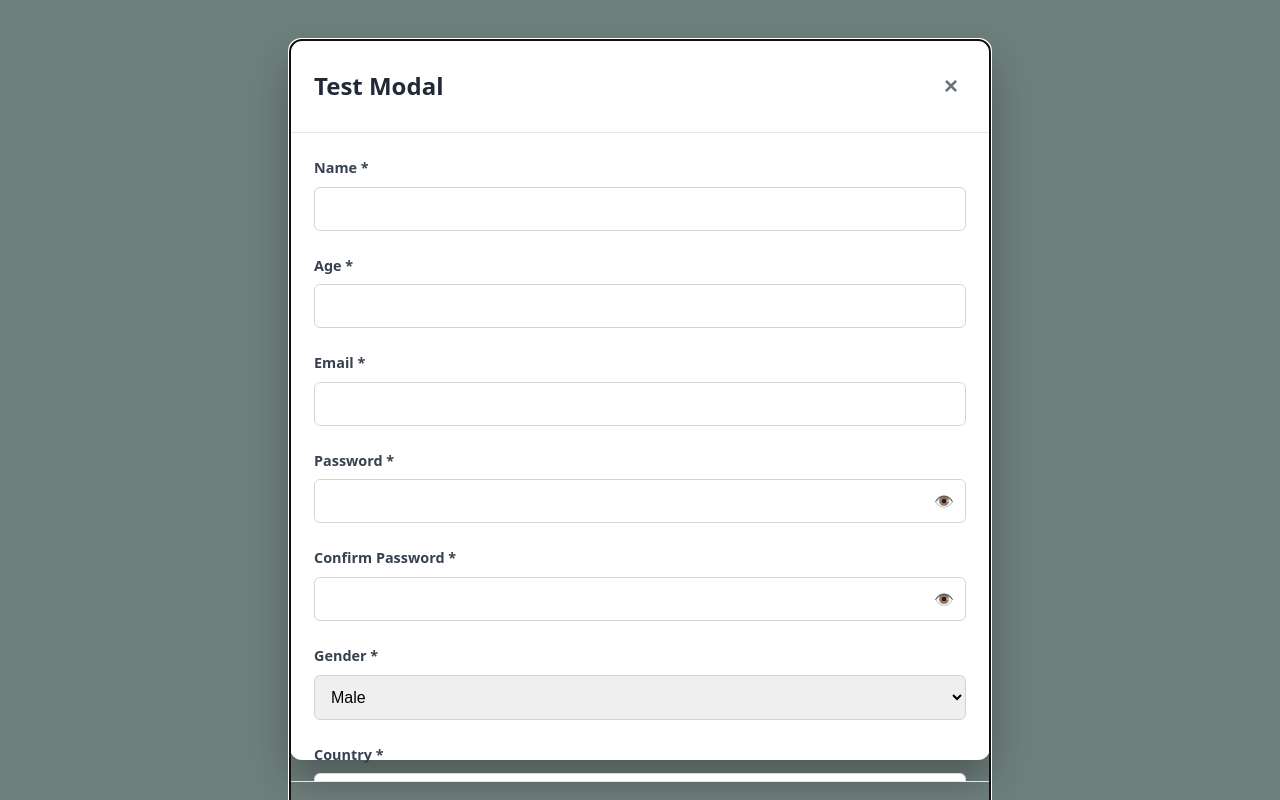
ReactHookForm Component › Field Validation › should validate age field correctly
The width and height of the screenshot is (1280, 800).
Type "0" into the number field labelled "Age *" at (640, 306), box [314, 284, 966, 328]
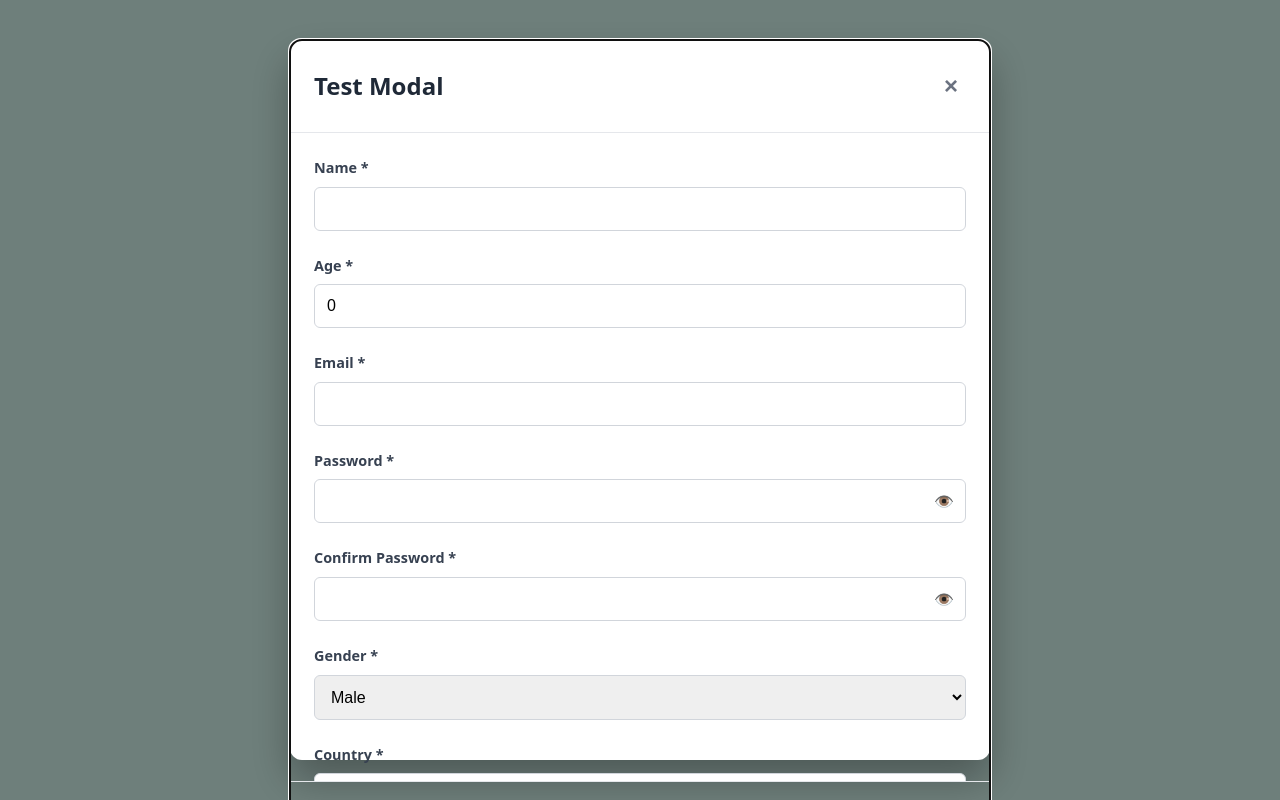
Leave the number field labelled "Age *", box [314, 284, 966, 328]
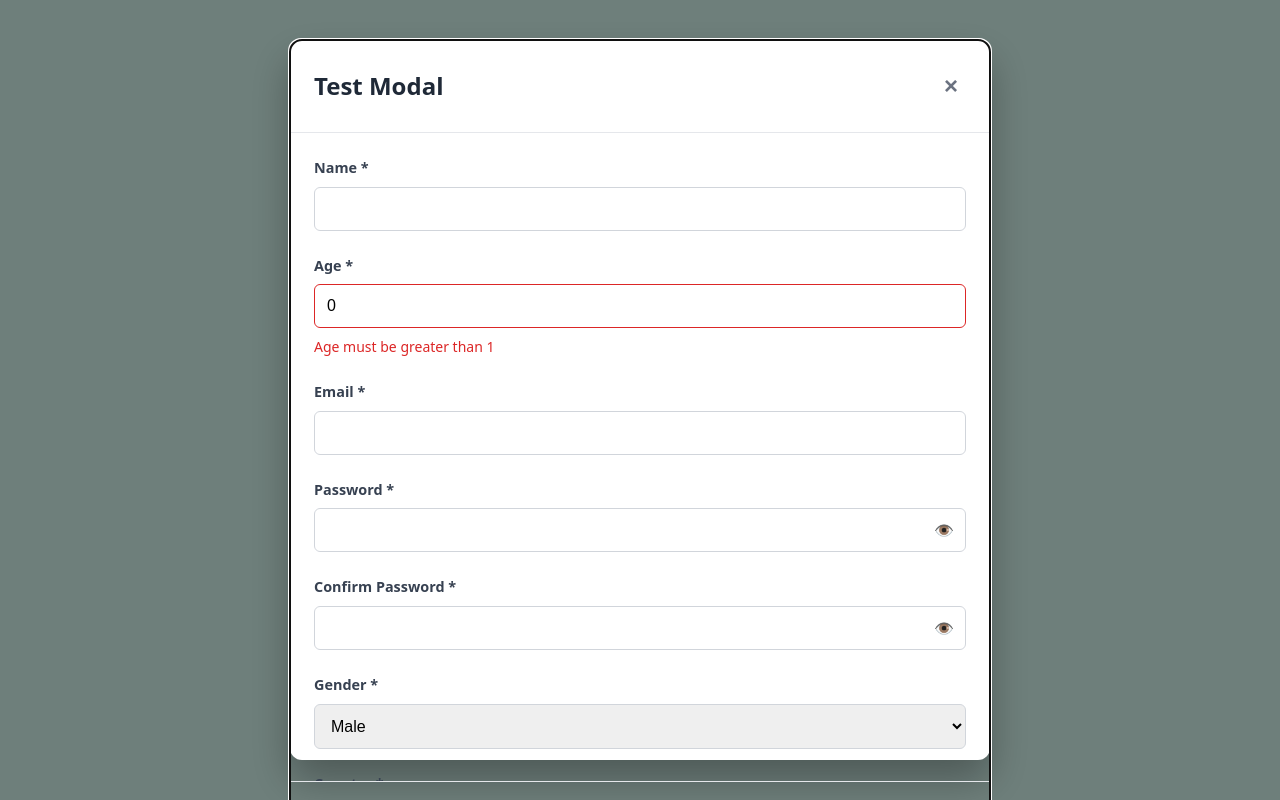
Expected: the text "Age must be greater than 1" is shown, [314, 337, 494, 356]
Replace the text in the number field labelled "Age *" with "25" at (640, 306), box [314, 284, 966, 328]
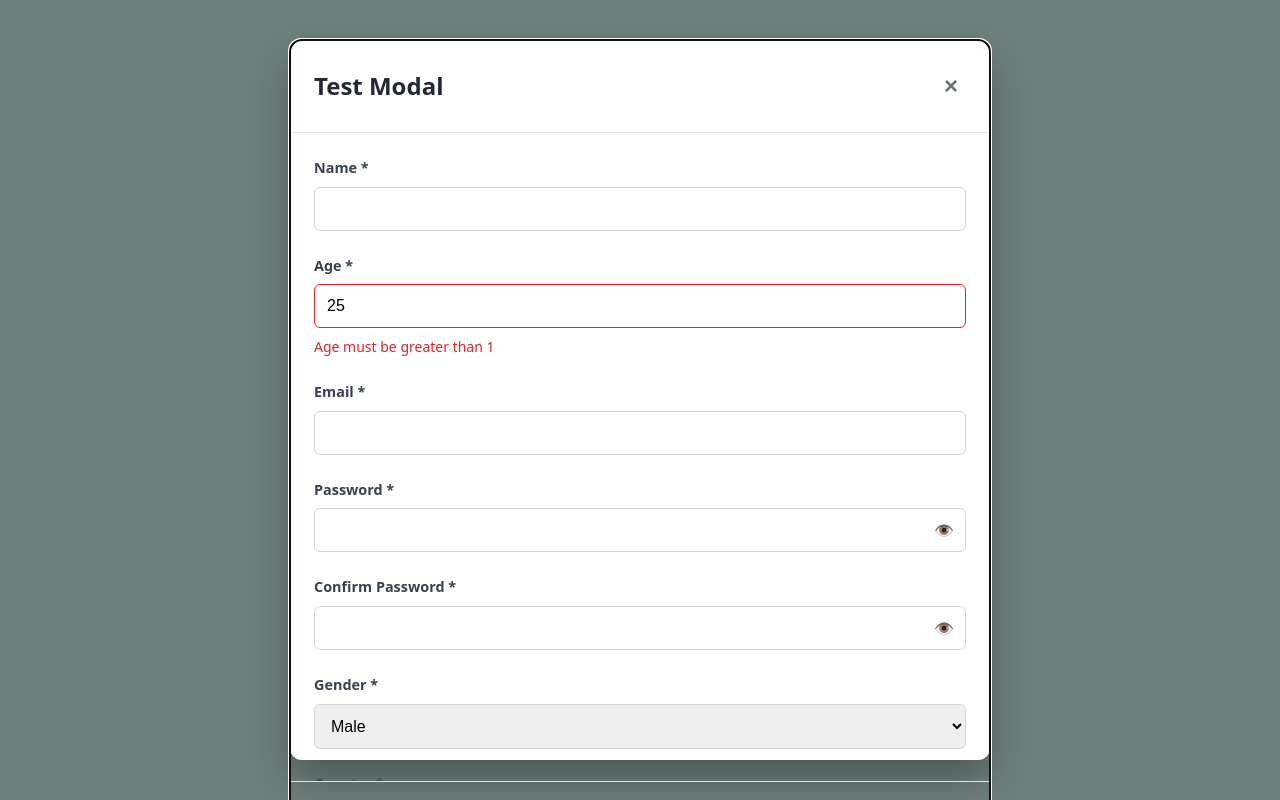
Leave the number field labelled "Age *", box [314, 284, 966, 328]
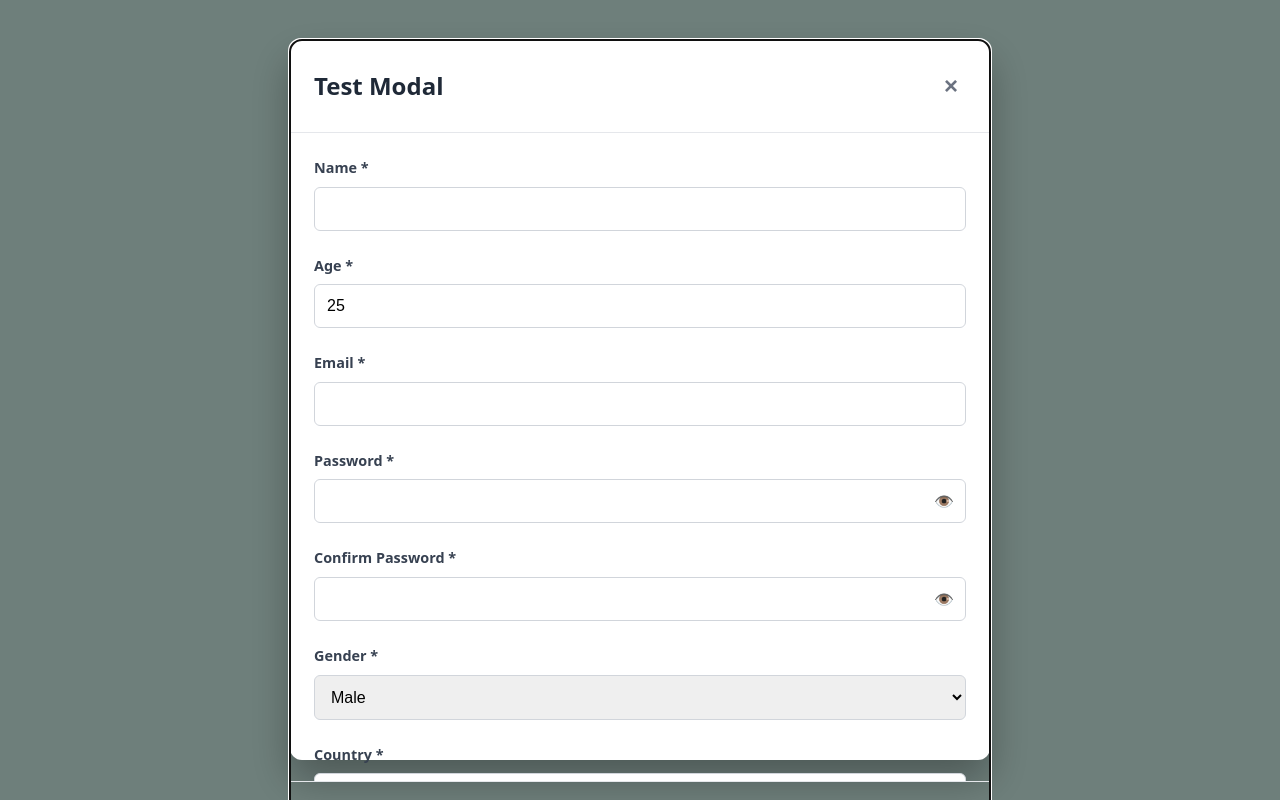
Expected: the text "Age must be greater than 1" is gone
